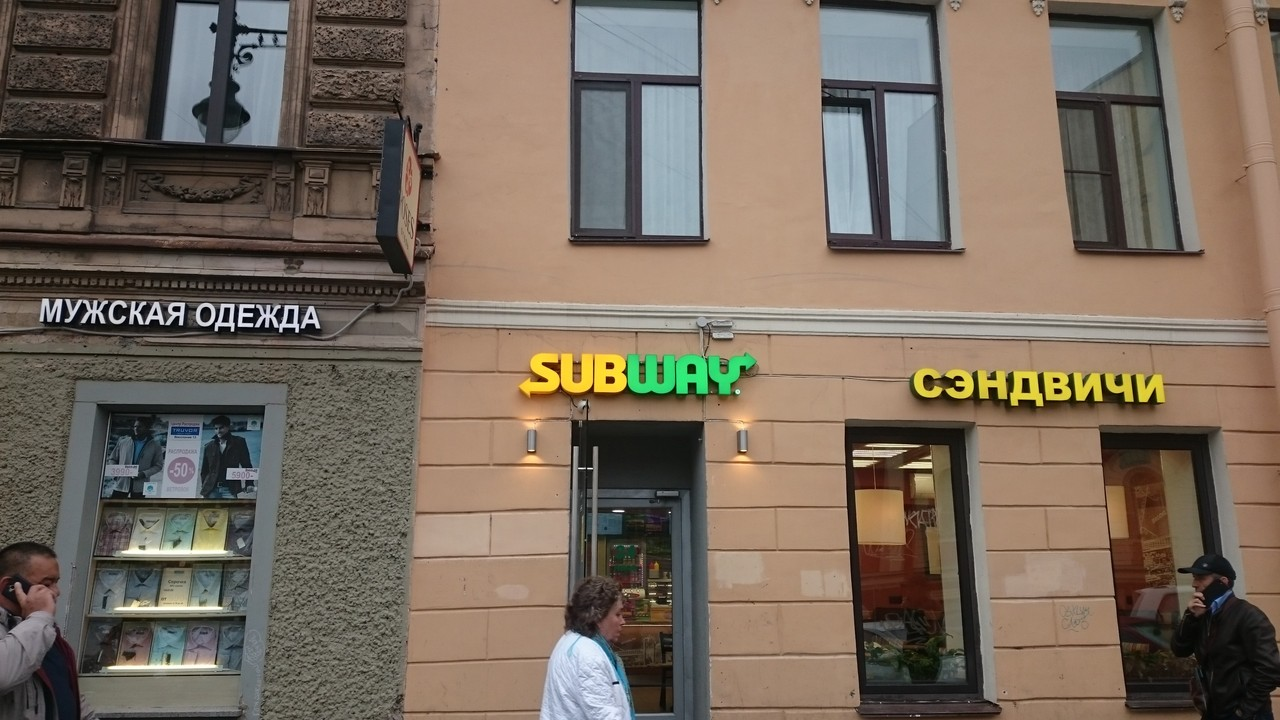cantilever: (368, 113, 440, 289)
signboard: (39, 292, 325, 342), (515, 346, 755, 402), (910, 361, 1170, 412)
window: (843, 422, 976, 701), (1046, 1, 1189, 259), (570, 1, 706, 239), (1102, 431, 1216, 704), (820, 1, 940, 249), (170, 1, 290, 150)
